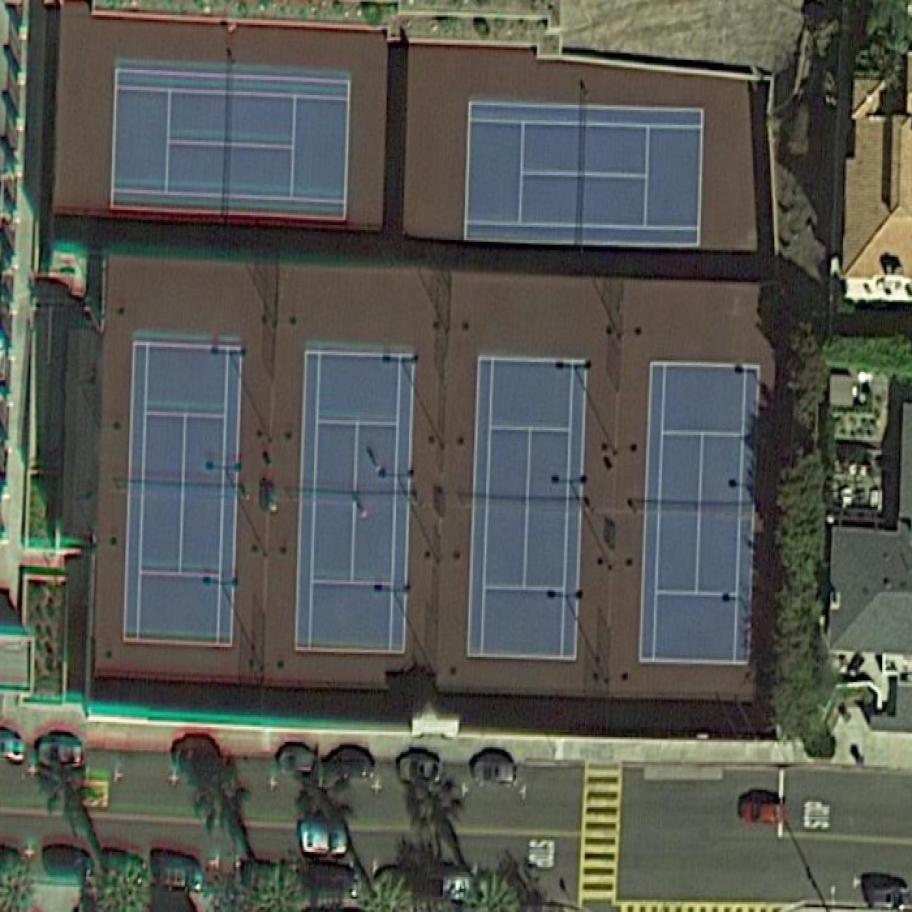small-vehicle: (97, 847, 152, 890), (156, 860, 208, 897), (43, 849, 95, 885), (302, 824, 350, 859), (170, 739, 223, 770), (324, 749, 377, 780), (36, 740, 86, 772), (470, 758, 519, 790), (398, 757, 445, 787), (740, 802, 791, 827), (279, 749, 319, 779), (869, 887, 912, 910)
